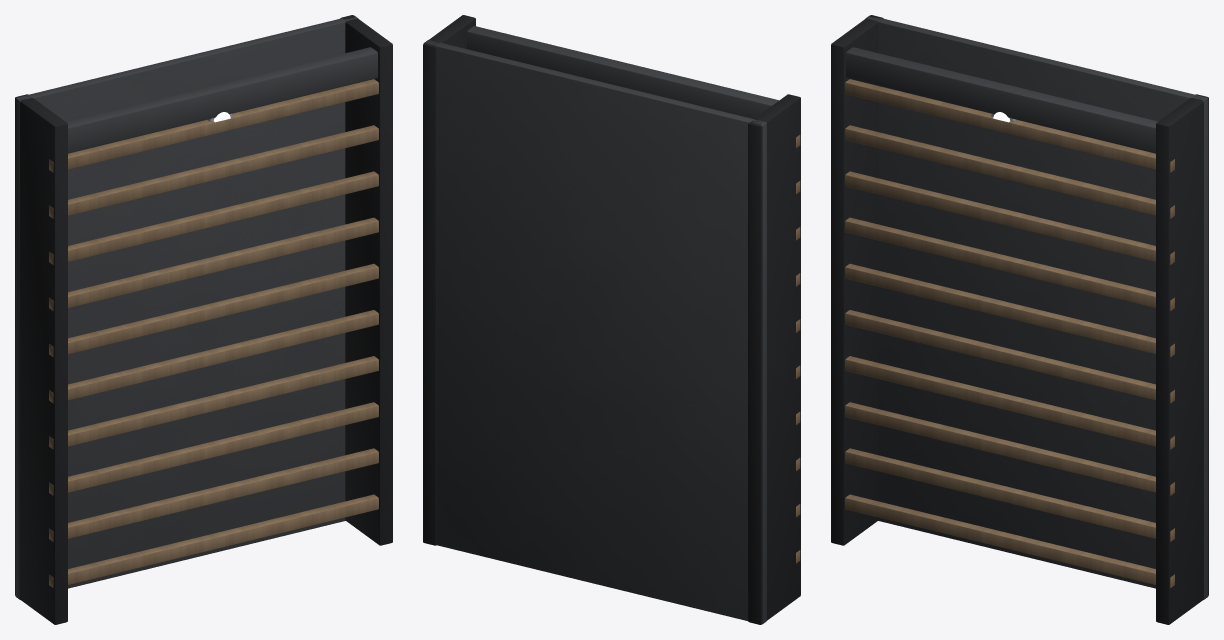
The model's file is pf_display_wall_slat_system_t2.glb.
3 renders of one model, left to right at view 1: azimuth 30°, elevation 25°; view 2: azimuth 150°, elevation 25°; view 3: azimuth 330°, elevation 25°, orthographic.
Visible parts, largest first — view 1: Slatwall_Back, Slatwall_Left_Trim, Slatwall_Right_Trim, Header_Back, Slat_07, Slat_09, Slat_02, Slat_04, Slat_01, Slat_08, Slat_03, Slat_05 (+2 smaller); view 2: Slatwall_Back, Slatwall_Left_Trim, Slatwall_Right_Trim, Header_Back; view 3: Slatwall_Back, Slatwall_Right_Trim, Slatwall_Left_Trim, Header_Back, Slat_07, Slat_09, Slat_02, Slat_04, Slat_01, Slat_08, Slat_03, Slat_05 (+2 smaller).
Part boxes in pixels (left/top/right/bottom): Slatwall_Back: left=15, top=15, right=358, bottom=599; Slatwall_Left_Trim: left=15, top=94, right=67, bottom=624; Slatwall_Right_Trim: left=340, top=15, right=392, bottom=545; Header_Back: left=65, top=47, right=377, bottom=153; Slat_07: left=49, top=217, right=378, bottom=310; Slat_09: left=49, top=125, right=378, bottom=218; Slat_02: left=49, top=448, right=378, bottom=541; Slat_04: left=49, top=356, right=378, bottom=449; Slat_01: left=49, top=494, right=378, bottom=587; Slat_08: left=49, top=171, right=378, bottom=264; Slat_03: left=49, top=402, right=378, bottom=495; Slat_05: left=49, top=310, right=378, bottom=403; Slatwall_Back: left=424, top=40, right=766, bottom=624; Slatwall_Left_Trim: left=748, top=94, right=800, bottom=624; Slatwall_Right_Trim: left=423, top=15, right=475, bottom=545; Header_Back: left=467, top=26, right=778, bottom=118; Slatwall_Back: left=865, top=15, right=1208, bottom=599; Slatwall_Right_Trim: left=1156, top=94, right=1208, bottom=624; Slatwall_Left_Trim: left=831, top=15, right=883, bottom=545; Header_Back: left=846, top=47, right=1158, bottom=153; Slat_07: left=845, top=217, right=1174, bottom=310; Slat_09: left=845, top=125, right=1174, bottom=218; Slat_02: left=845, top=448, right=1174, bottom=541; Slat_04: left=845, top=356, right=1174, bottom=449; Slat_01: left=845, top=494, right=1174, bottom=587; Slat_08: left=845, top=171, right=1174, bottom=264; Slat_03: left=845, top=402, right=1174, bottom=495; Slat_05: left=845, top=310, right=1174, bottom=403.
Size of the model in its own units: 1.35 by 1.9 by 0.28.
Materials: 6 (3 with a texture image).
